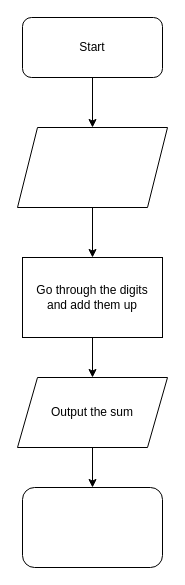
Some shapes in this 185 by 585 pixel diagram are drawn without their labels. The shapes that lost their labels are listed below. From the top down, each one's centre as x and y in pixels, then its label:
point (92, 167): Input a positive integer less than 10000
point (92, 527): End
